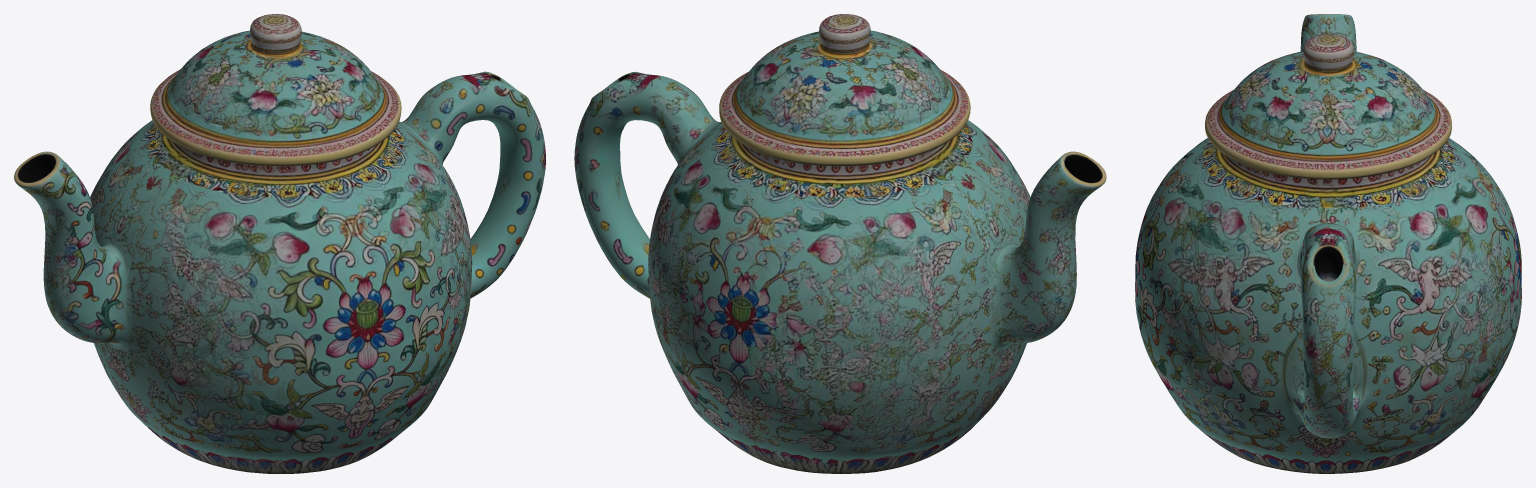
Rendered from 铜胎珐琅绿地花卉纹茶壶.glb.
3 views of the same model, side by side, from view 1: azimuth 30°, elevation 25°; view 2: azimuth 150°, elevation 25°; view 3: azimuth 270°, elevation 25° (orthographic). The views are drawn at different scales.
Parts seen in each view (by area): view 1: tripo_node_3c60930c; view 2: tripo_node_3c60930c; view 3: tripo_node_3c60930c.
Part boxes in pixels (x1,y1,x2,y2): tripo_node_3c60930c: (14,14,545,473); tripo_node_3c60930c: (574,14,1106,473); tripo_node_3c60930c: (1135,14,1521,473).
Bounding box in the file's own units: 97.92 × 72.66 × 65.25.
Materials: 1 (1 with a texture image).
